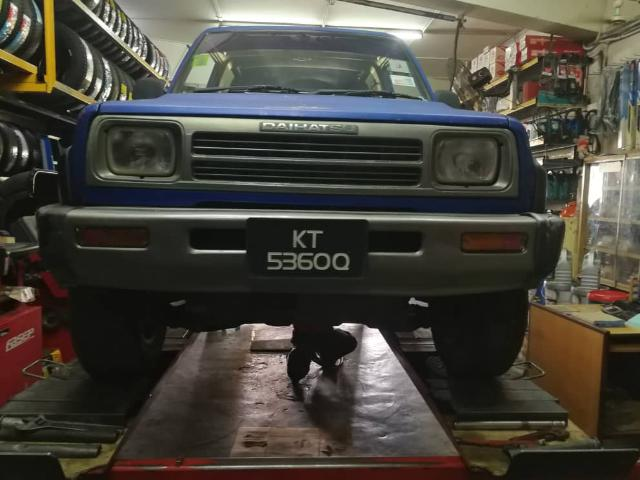License_Plate: (249, 217, 367, 278)
car: (52, 23, 566, 392)
